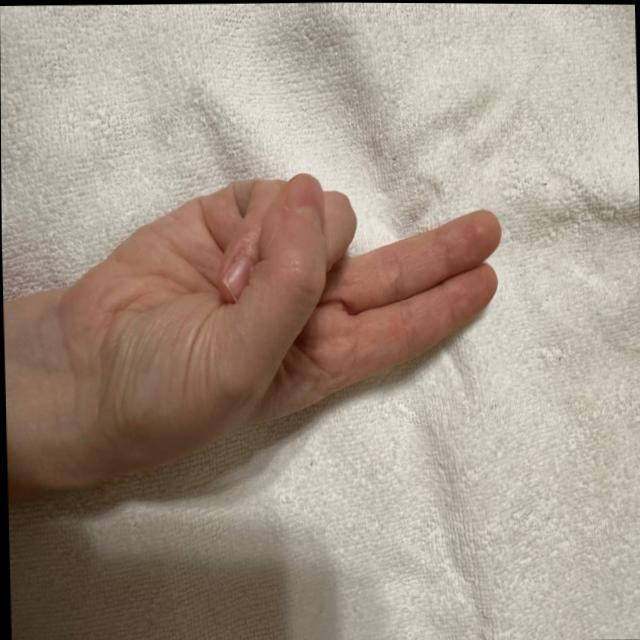ts: (81, 130, 514, 494)
